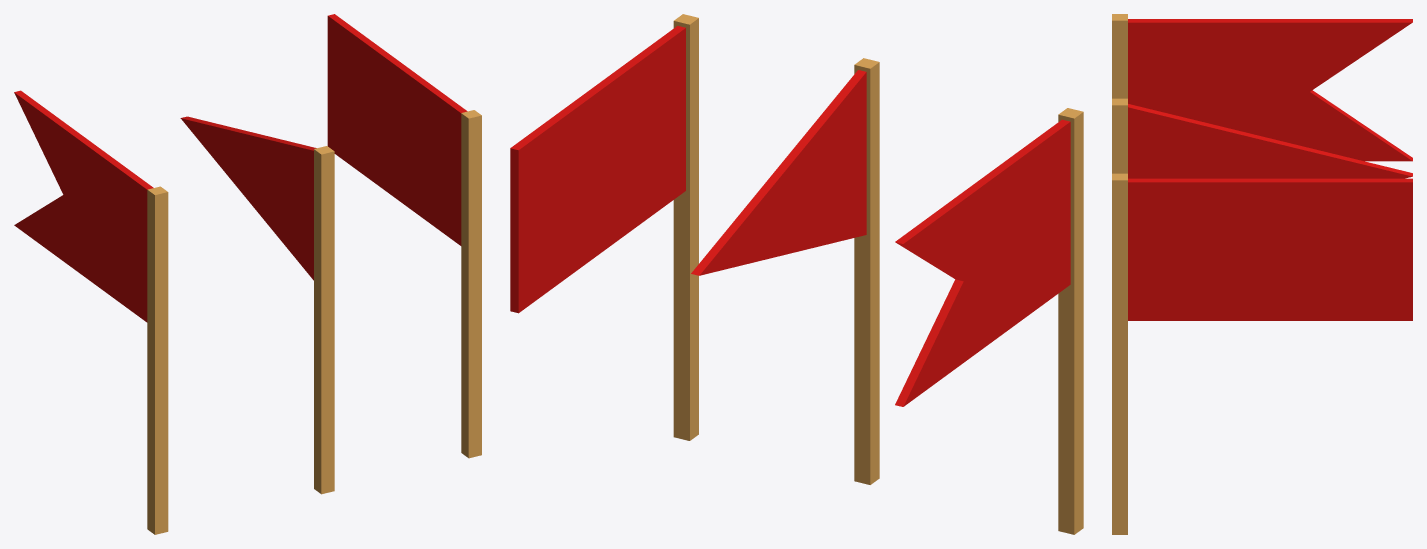
The model's file is banderas.fbx.
The picture shows the model from 3 angles, left to right: view 1: azimuth 30°, elevation 25°; view 2: azimuth 150°, elevation 25°; view 3: azimuth 270°, elevation 25°; orthographic projection. The views are drawn at different scales.
Parts seen in each view (by area): view 1: Cube.005, Cube.007, Cube.006, Cube.004, Cube.003, Cube.002; view 2: Cube.005, Cube.007, Cube.006, Cube.002, Cube.004, Cube.003; view 3: Cube.005, Cube.007, Cube.006, Cube.003, Cube.004, Cube.002.
Part boxes in pixels (bbox=[...]): Cube.005: bbox=[327, 14, 467, 245]; Cube.007: bbox=[14, 90, 153, 322]; Cube.006: bbox=[180, 116, 316, 280]; Cube.004: bbox=[147, 186, 168, 534]; Cube.003: bbox=[461, 110, 481, 458]; Cube.002: bbox=[314, 146, 334, 494]; Cube.005: bbox=[510, 26, 685, 313]; Cube.007: bbox=[895, 119, 1070, 406]; Cube.006: bbox=[691, 70, 866, 275]; Cube.002: bbox=[854, 58, 879, 484]; Cube.004: bbox=[1058, 108, 1083, 534]; Cube.003: bbox=[673, 14, 698, 440]; Cube.005: bbox=[1128, 178, 1412, 320]; Cube.007: bbox=[1128, 19, 1412, 161]; Cube.006: bbox=[1128, 104, 1412, 178]; Cube.003: bbox=[1112, 173, 1127, 534]; Cube.004: bbox=[1112, 14, 1127, 98]; Cube.002: bbox=[1112, 98, 1127, 173].
Bounding box in the file's own units: 705 × 700 × 538.
